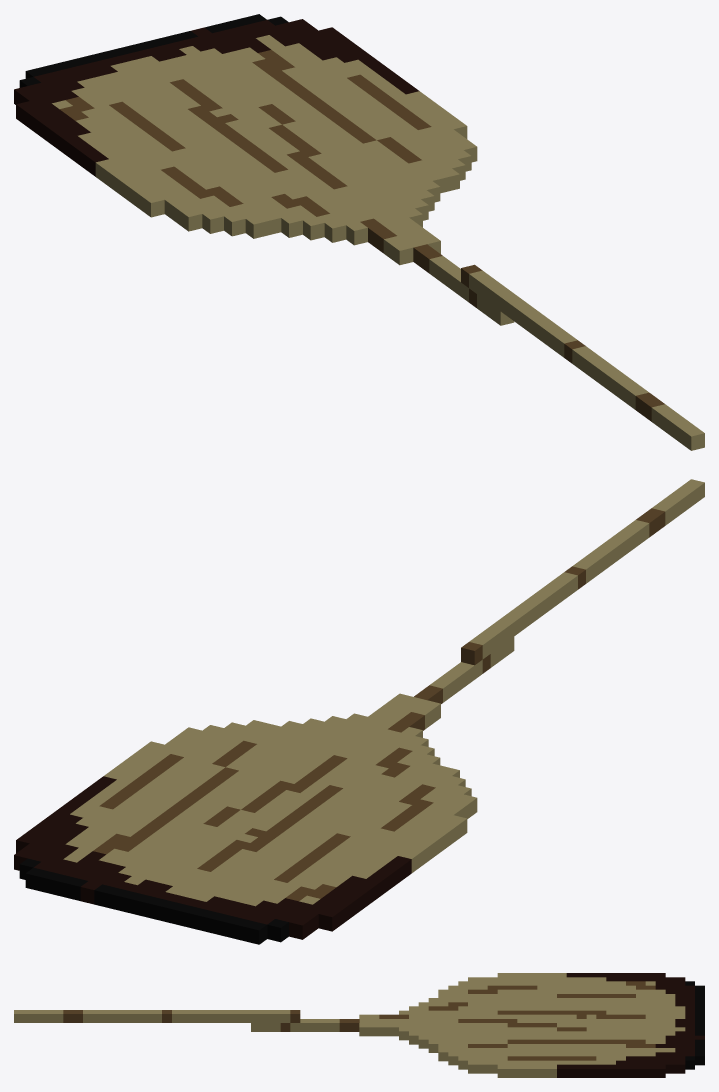
Rendered from pizza_peel.obj.
3 views of the same model, one above another, from view 1: azimuth 30°, elevation 25°; view 2: azimuth 150°, elevation 25°; view 3: azimuth 270°, elevation 25° (orthographic). The views are drawn at different scales.
Bounding box in the file's own units: 2.3 × 0.2 × 7.
Materials: 1 (1 with a texture image).
